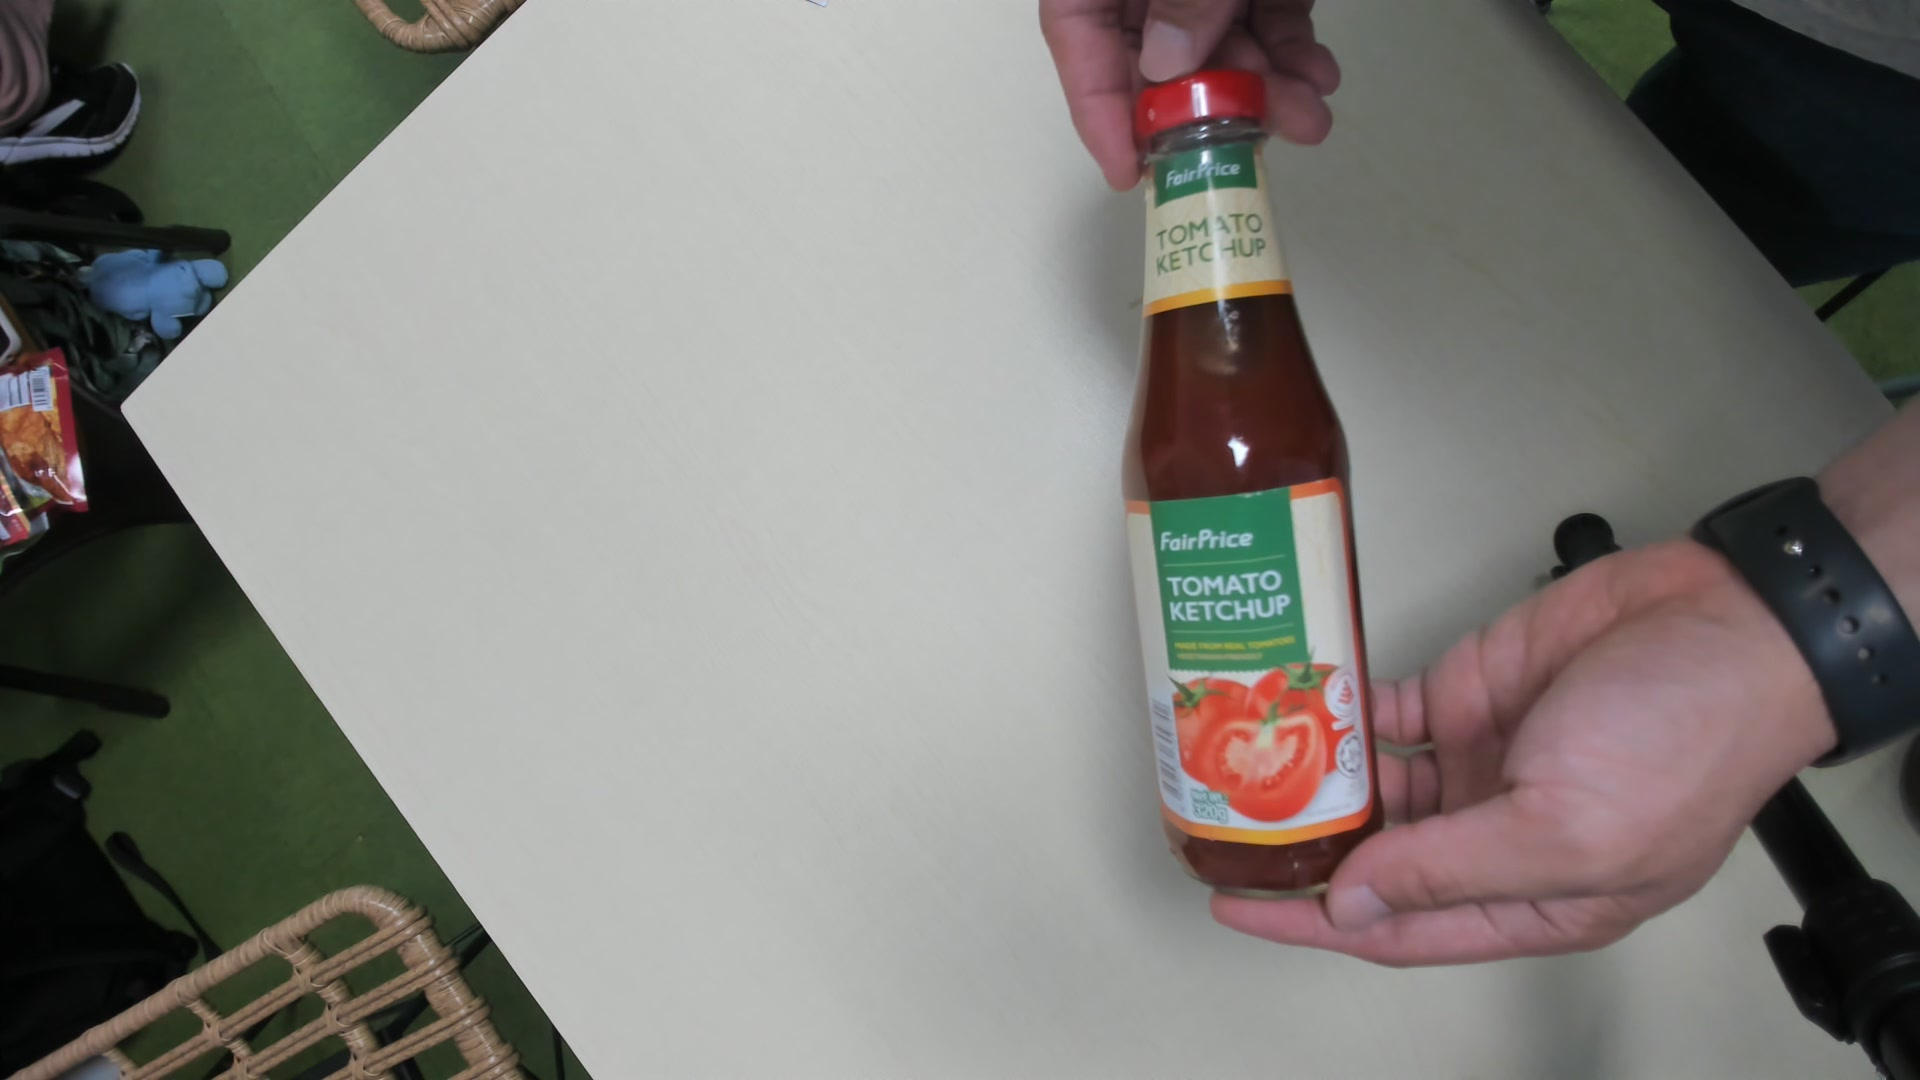KetchupChillSauce_300-399g_Halal_Healthy: (1112, 75, 1385, 916)
